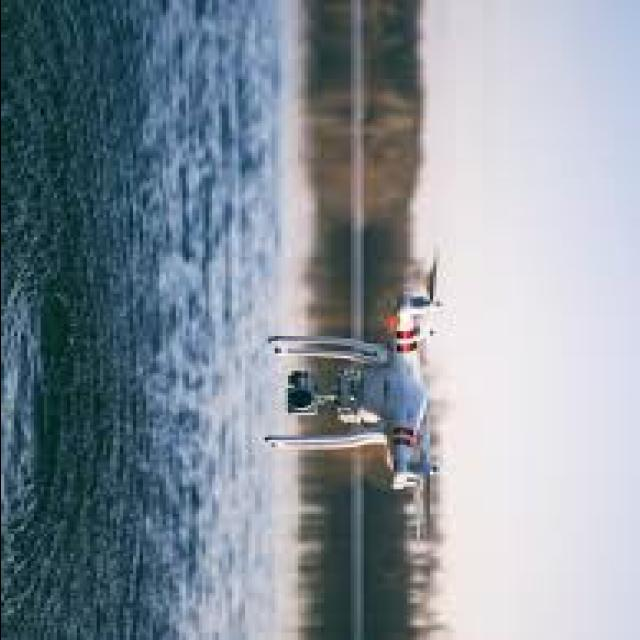drone: (243, 232, 475, 542)
